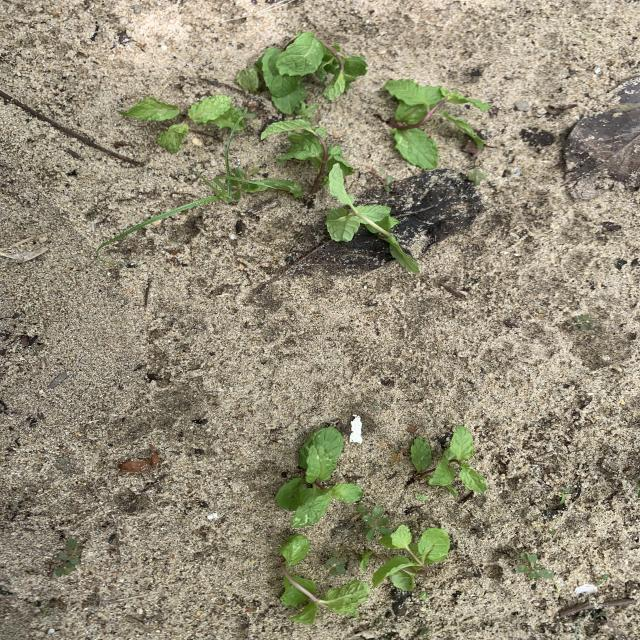crop: (237, 32, 367, 109), (384, 79, 489, 167), (277, 427, 362, 526), (278, 535, 369, 623), (260, 120, 354, 205), (121, 95, 238, 153), (326, 204, 418, 271), (410, 426, 486, 495), (372, 525, 449, 590)
weed: (96, 130, 254, 257), (228, 167, 265, 199), (357, 505, 390, 539), (52, 539, 82, 575), (516, 552, 554, 579), (325, 548, 347, 574), (566, 315, 594, 329), (376, 169, 393, 191), (467, 168, 487, 185), (559, 488, 570, 504), (416, 494, 427, 499), (376, 618, 383, 624)
